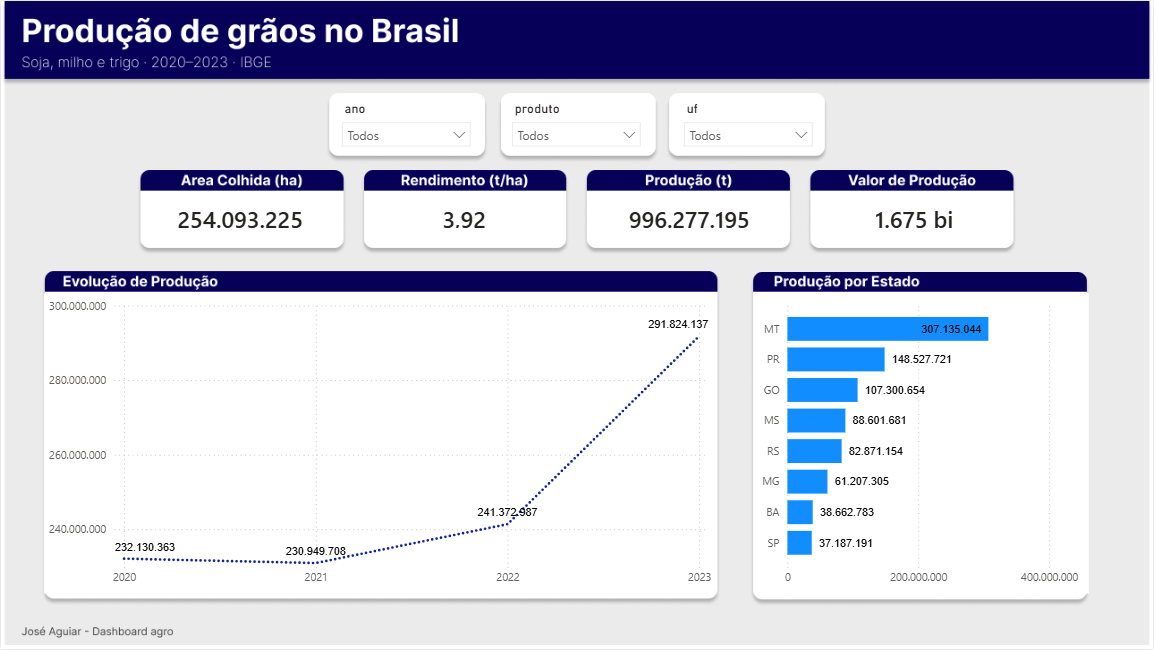

This screenshot's page, from the dashboard's own definition file:
{"tool":"powerbi","page":{"name":"Produção de Grãos","canvas":[1280,720],"ordinal":0},"visuals":[{"type":"cardVisual","fields":{"Data":["Medidas.Valor rótulo"]},"box":[906.2,212.3,216,57],"z":0},{"type":"cardVisual","fields":{"Data":["Medidas.Rendimento rótulo"]},"box":[406.2,212.3,216,57],"z":1000},{"type":"cardVisual","fields":{"Data":["Medidas.Área Colhida rótulo"]},"box":[157.7,212.3,216,57],"z":2000},{"type":"cardVisual","fields":{"Data":["Medidas.Produção rótulo"]},"box":[656.2,212.5,216.9,57.5],"z":3000},{"type":"lineChart","fields":{"Category":["dim_tempo.ano"],"Y":["Medidas.Produção (t)"]},"box":[48,324,746,334],"z":4000},{"type":"clusteredBarChart","fields":{"Category":["dim_municipio.uf"],"Y":["Medidas.Produção (t)"]},"box":[838,324,371,334],"z":5000},{"type":"slicer","fields":{"Values":["dim_tempo.ano"]},"box":[368.6,106.4,162.9,61.2],"z":6000},{"type":"slicer","fields":{"Values":["dim_produto.produto"]},"box":[558.2,106.5,162.9,61.2],"z":7000},{"type":"slicer","fields":{"Values":["dim_municipio.uf"]},"box":[748.8,106.5,162.9,61.2],"z":8000}]}

Visuals, with their boxes in screenshot pixels (x1, y1, x2, y2), scaled from the page's 1280x720 canvas onto the 1154x650 screenshot:
cardVisual - Medidas.Valor rótulo: 817:192:1012:243
cardVisual - Medidas.Rendimento rótulo: 366:192:561:243
cardVisual - Medidas.Área Colhida rótulo: 142:192:337:243
cardVisual - Medidas.Produção rótulo: 592:192:787:244
lineChart - dim_tempo.ano x Medidas.Produção (t): 43:292:716:594
clusteredBarChart - dim_municipio.uf x Medidas.Produção (t): 756:292:1090:594
slicer - dim_tempo.ano: 332:96:479:151
slicer - dim_produto.produto: 503:96:650:151
slicer - dim_municipio.uf: 675:96:822:151
